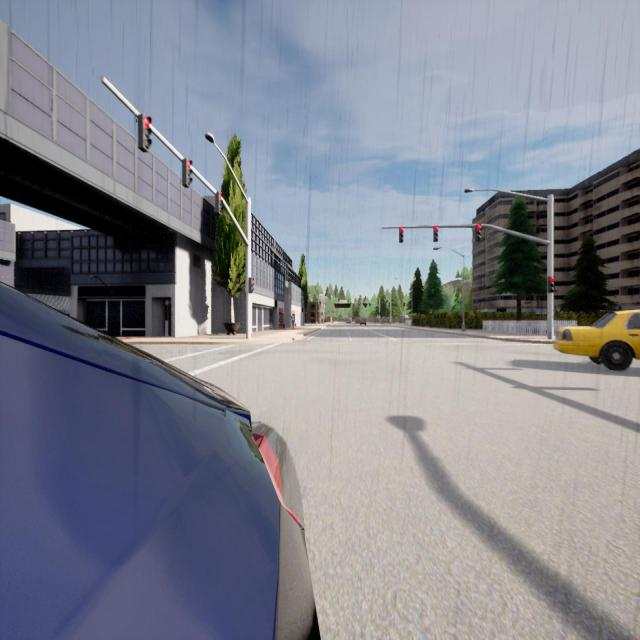Pedestrian: (292, 312, 296, 329)
Vehicle: (0, 280, 319, 640), (553, 310, 639, 369), (360, 319, 367, 325), (346, 318, 352, 324), (356, 316, 360, 324)
traffic_light: (138, 115, 152, 152), (182, 158, 193, 188), (215, 192, 222, 216), (475, 225, 482, 241), (548, 276, 555, 292), (248, 277, 254, 293), (433, 226, 438, 242), (399, 226, 403, 242)
